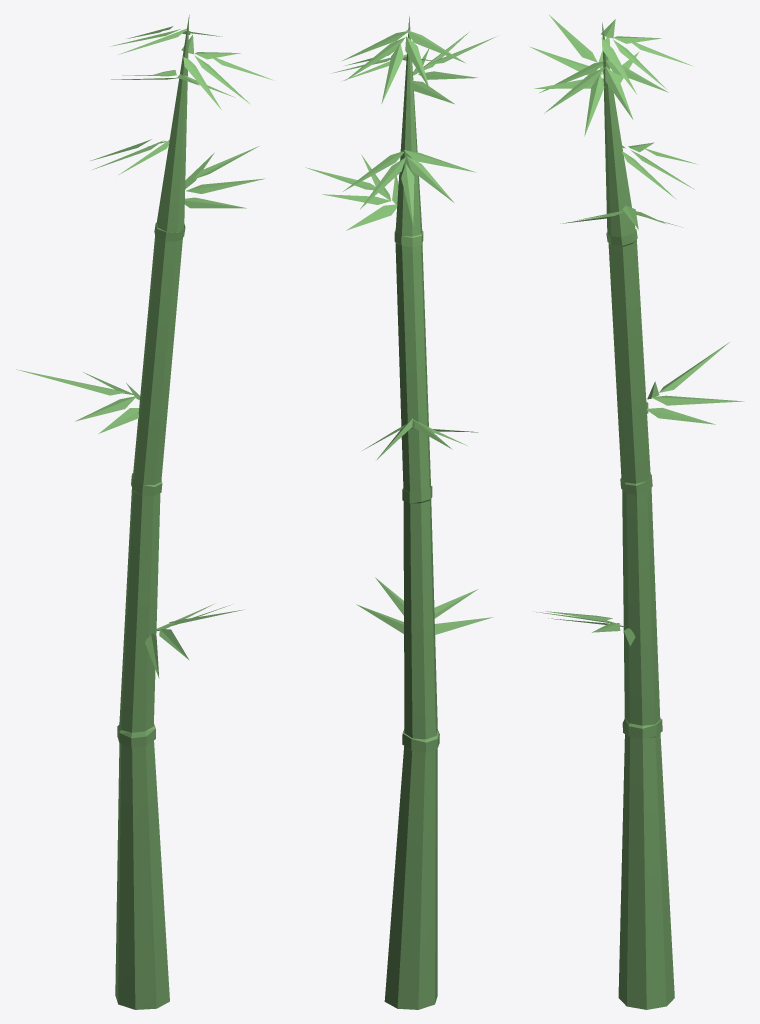
Rendered from bamboo_rostok.fbx.
3 views of the same model, side by side, from view 1: azimuth 30°, elevation 25°; view 2: azimuth 150°, elevation 25°; view 3: azimuth 270°, elevation 25° (orthographic). The views are drawn at different scales.
Visible parts, largest first — view 1: bamboo_rostok; view 2: bamboo_rostok; view 3: bamboo_rostok.
Part boxes in pixels (x1,y1,x2,y2): bamboo_rostok: [16, 15, 273, 1009]; bamboo_rostok: [305, 16, 496, 1009]; bamboo_rostok: [529, 15, 744, 1009].
Size of the model in its own units: 1.07 by 5.07 by 1.01.
